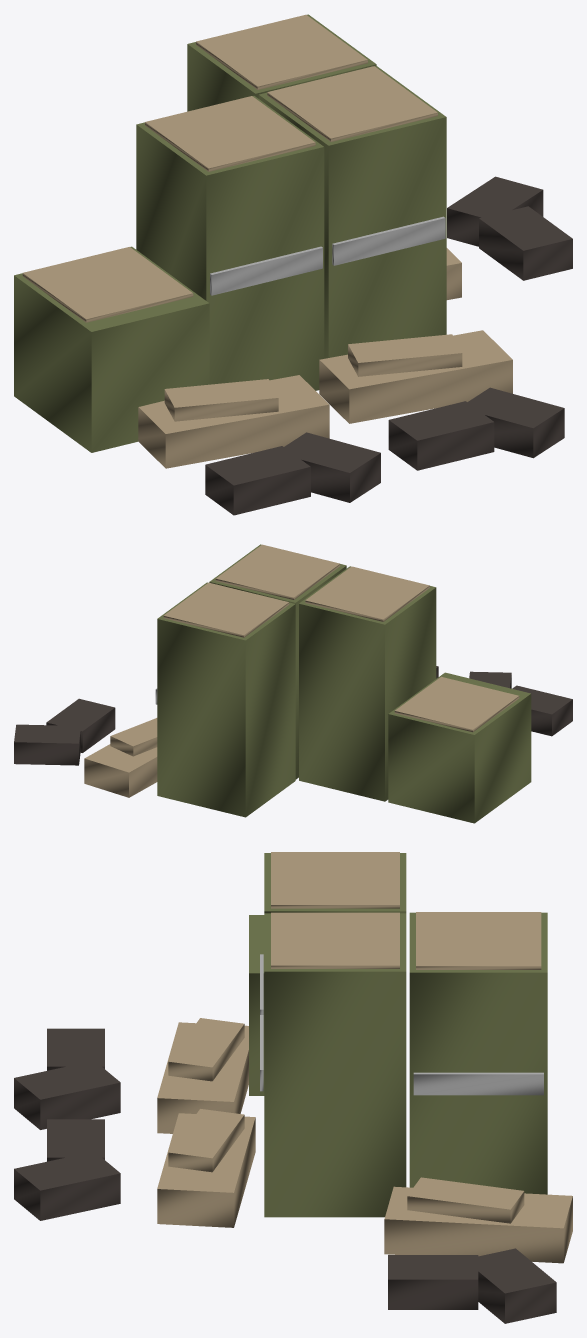
File: SM_HescoRemateEspejo_v0_MallaLimpia_e1_Danado_LOD1.fbx
3 renders of one model, top to bottom at view 1: azimuth 30°, elevation 25°; view 2: azimuth 150°, elevation 25°; view 3: azimuth 270°, elevation 25°, orthographic. The views are drawn at different scales.
Visible parts, largest first — view 1: SM_hesco_piezas_v21_LOD1; view 2: SM_hesco_piezas_v21_LOD1; view 3: SM_hesco_piezas_v21_LOD1.
Part boxes in pixels (x1,y1,x2,y2): SM_hesco_piezas_v21_LOD1: (14,14,572,515); SM_hesco_piezas_v21_LOD1: (14,544,572,823); SM_hesco_piezas_v21_LOD1: (14,852,572,1323).
Size of the model in its own units: 5.25 by 2.13 by 4.33.
